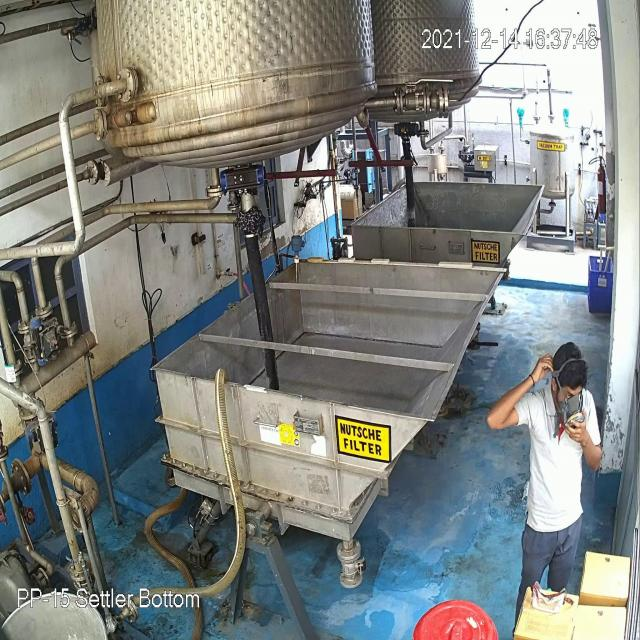No_Gloves: (474, 352, 556, 430)
